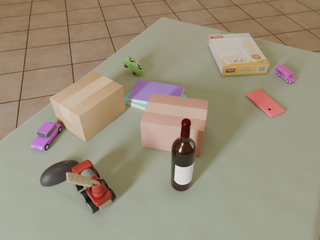book: (128, 80, 184, 104)
bottle: (171, 119, 196, 191)
box: (50, 72, 126, 142), (141, 93, 208, 156), (208, 33, 270, 76)
mouse: (40, 160, 79, 186)
phone: (246, 90, 285, 117)
toy_car: (66, 160, 116, 213), (31, 122, 62, 150), (123, 57, 144, 76), (275, 65, 296, 83)
